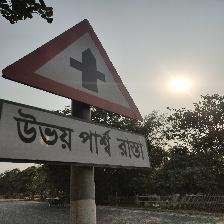Crossroad: (0, 18, 150, 170)
